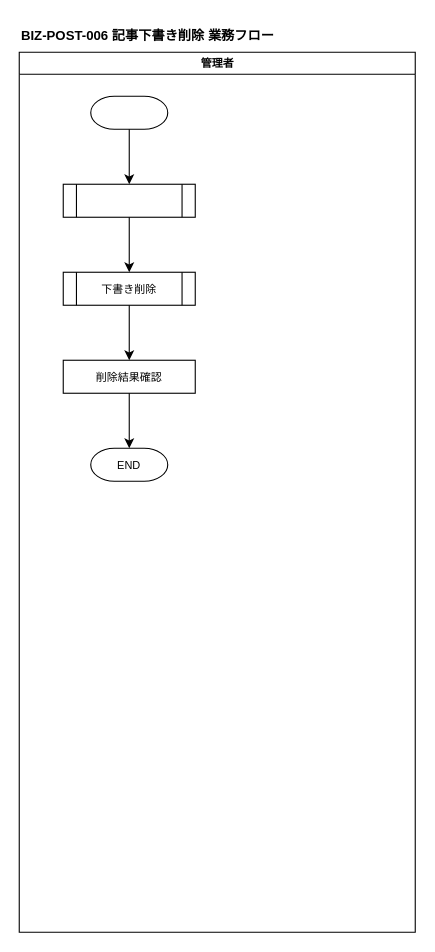
Some shapes in this 435 by 952 pixel diagram are drawn without their labels. The centre of each missing label's shape, as x and y in pixels:
"START" goes at [129,112].
"下書き選択" goes at [128,200].
